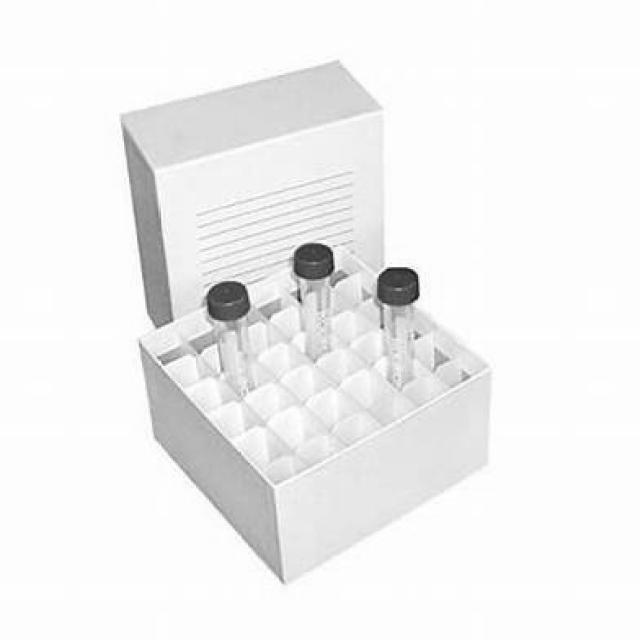vial: (282, 244, 346, 278), (378, 263, 427, 299), (204, 286, 264, 314)
